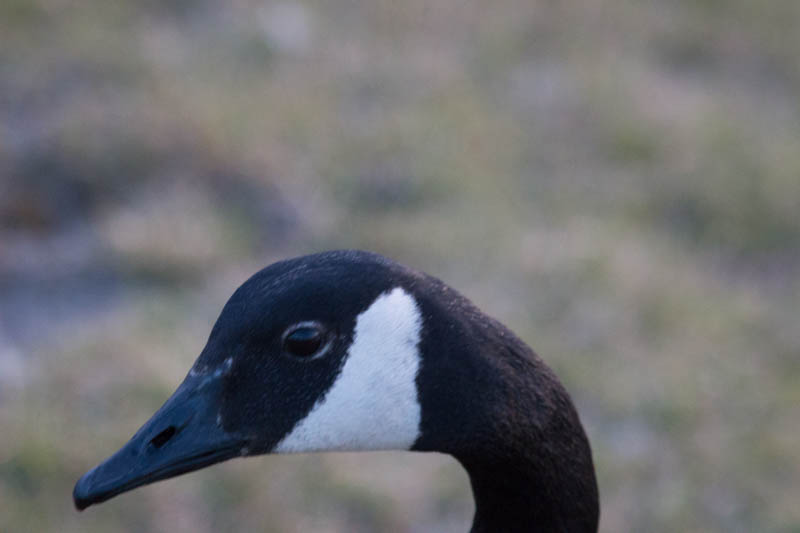goose-head: (71, 250, 546, 513)
